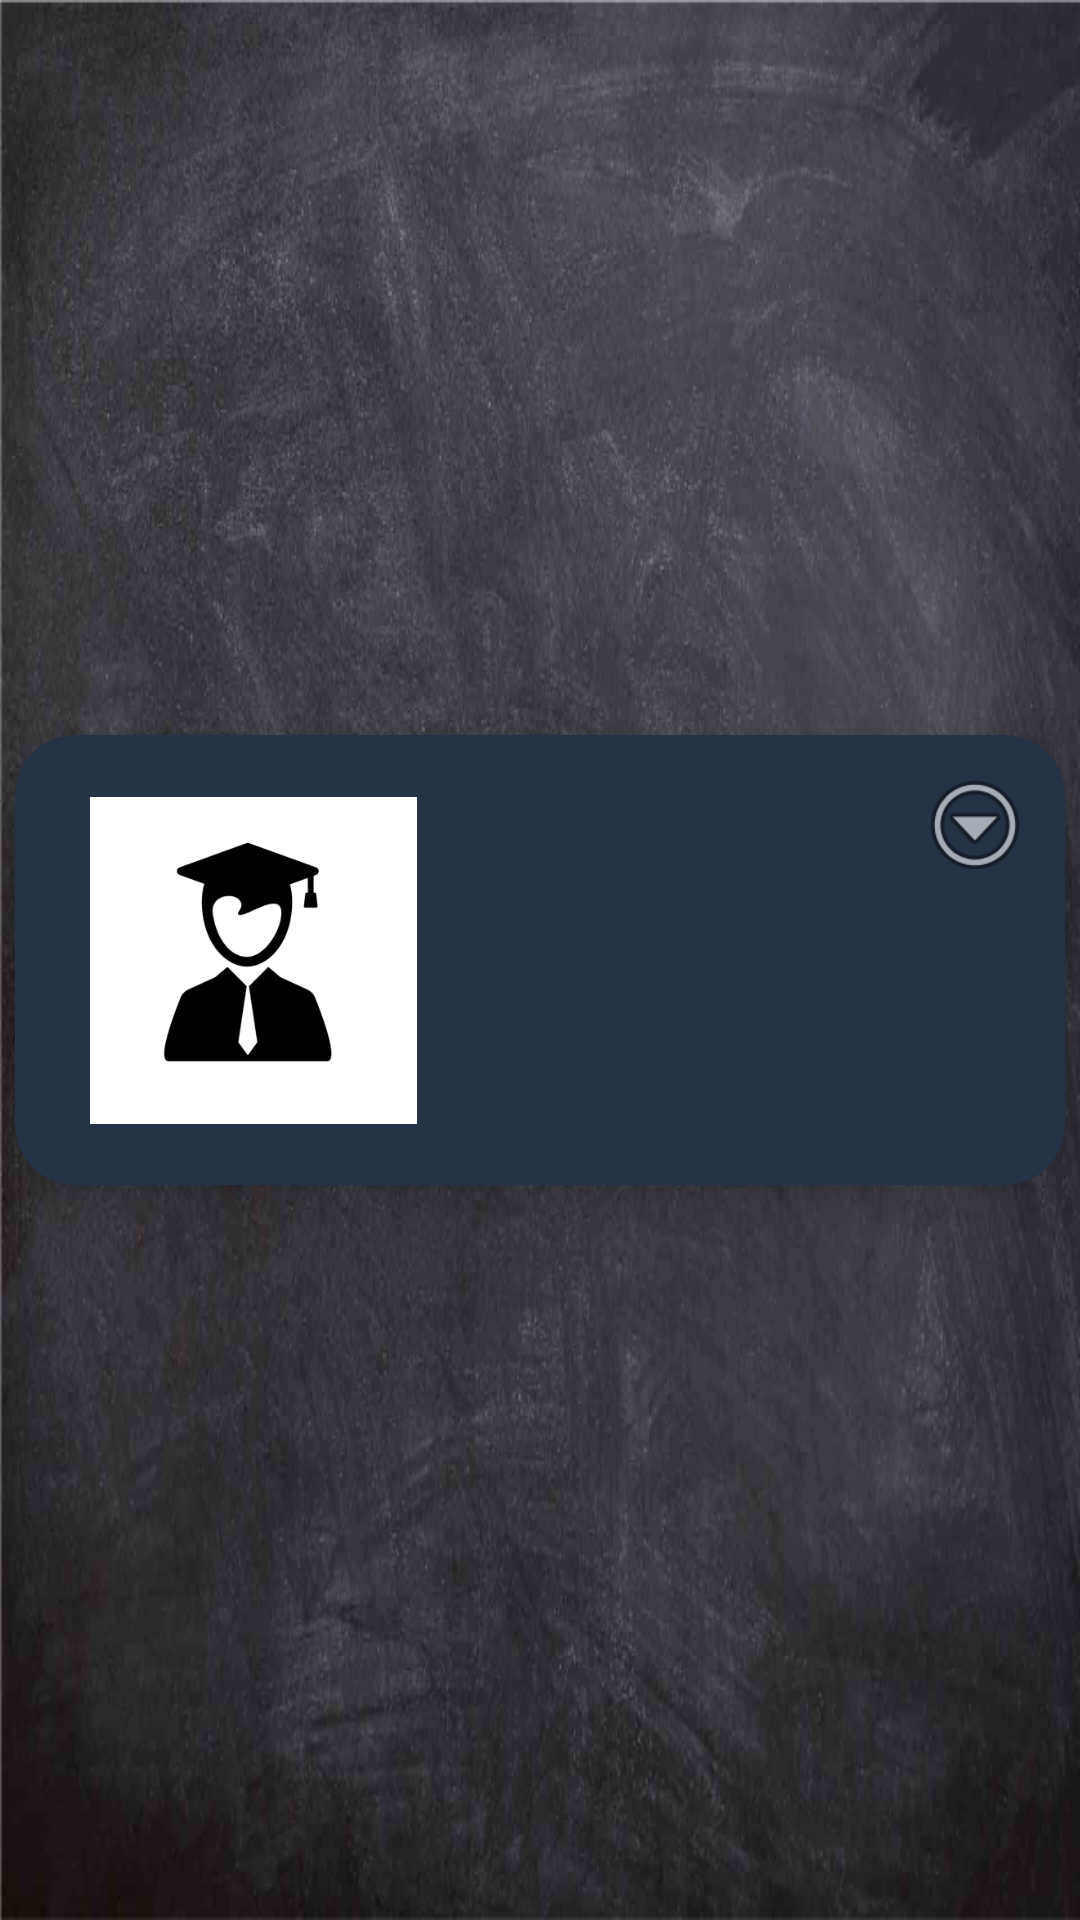

Icons on this 1080×1920 Android screen, each with its box as (x1, y1, x2, y2):
more: (932, 782, 1018, 868)
studente: (90, 797, 417, 1124)
